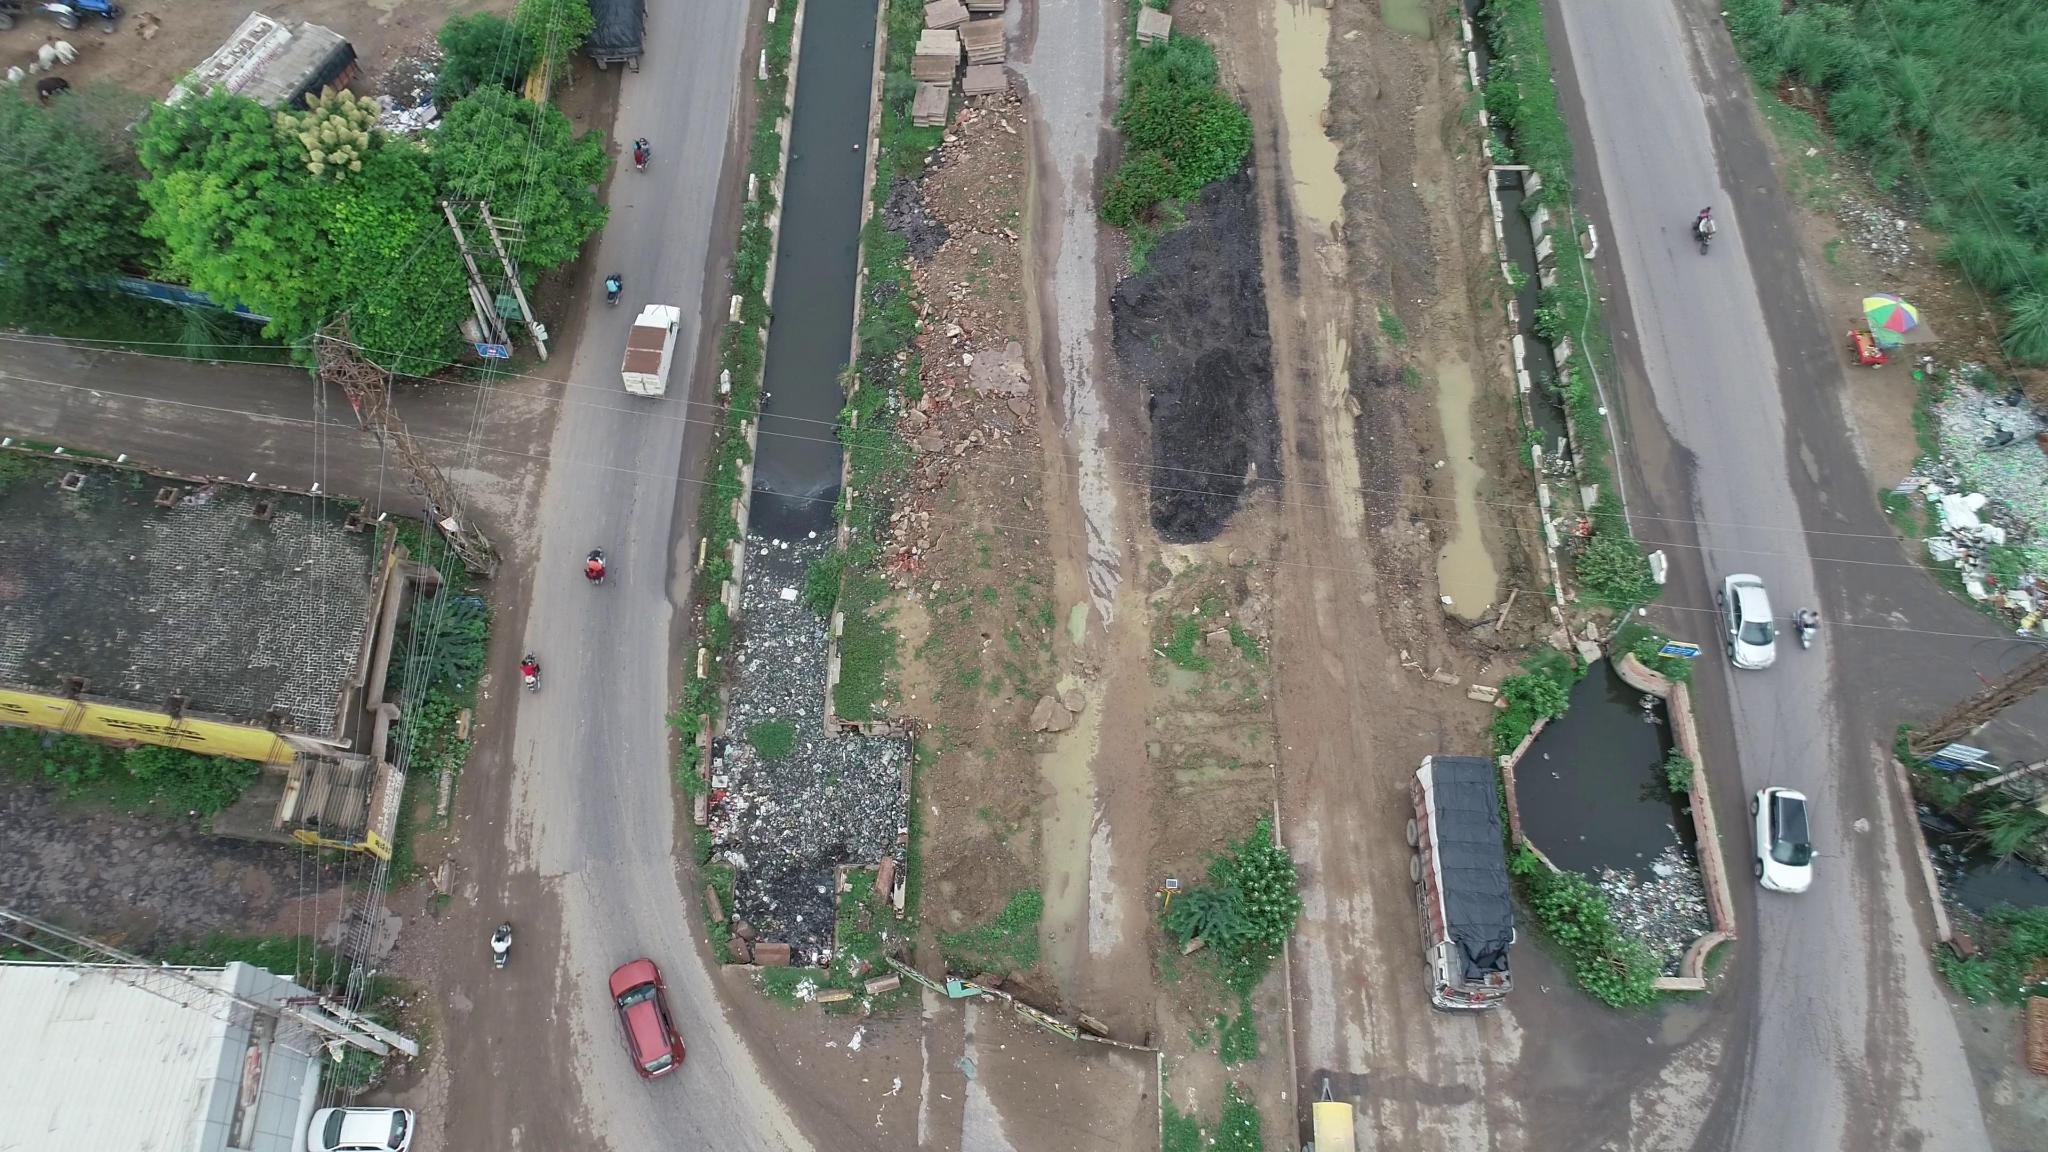Potholes: (1793, 423, 1862, 537)
